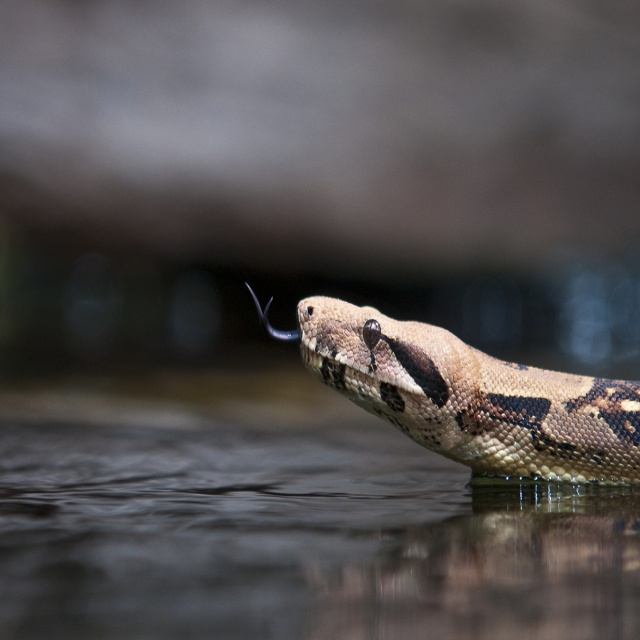Snake: (246, 283, 640, 489)
